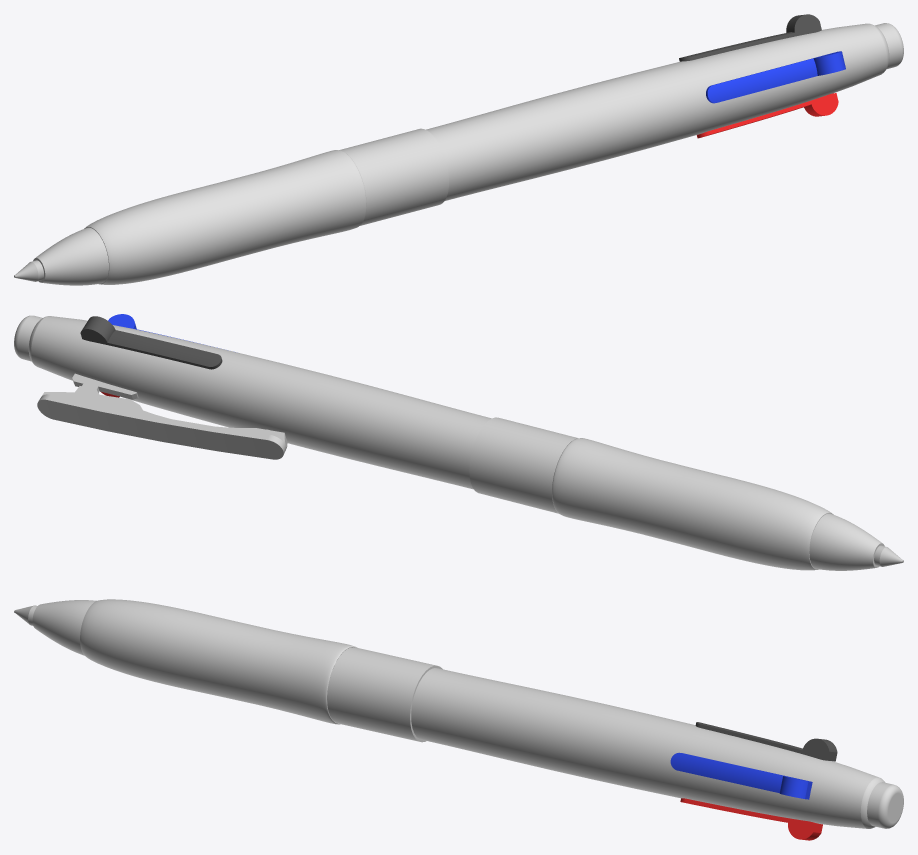
File: 195_3色ボールペン.glb
3 renders of one model, top to bottom at view 1: azimuth 30°, elevation 25°; view 2: azimuth 150°, elevation 25°; view 3: azimuth 330°, elevation 25°, orthographic.
Parts seen in each view (by area): view 1: body.001; view 2: body.001; view 3: body.001.
Boxes of the visible parts, <box> form: body.001: <box>14,14,903,285</box>; body.001: <box>14,314,903,570</box>; body.001: <box>14,599,903,840</box>.
Bounding box in the file's own units: 0.1381 × 0.0137 × 0.0176.
